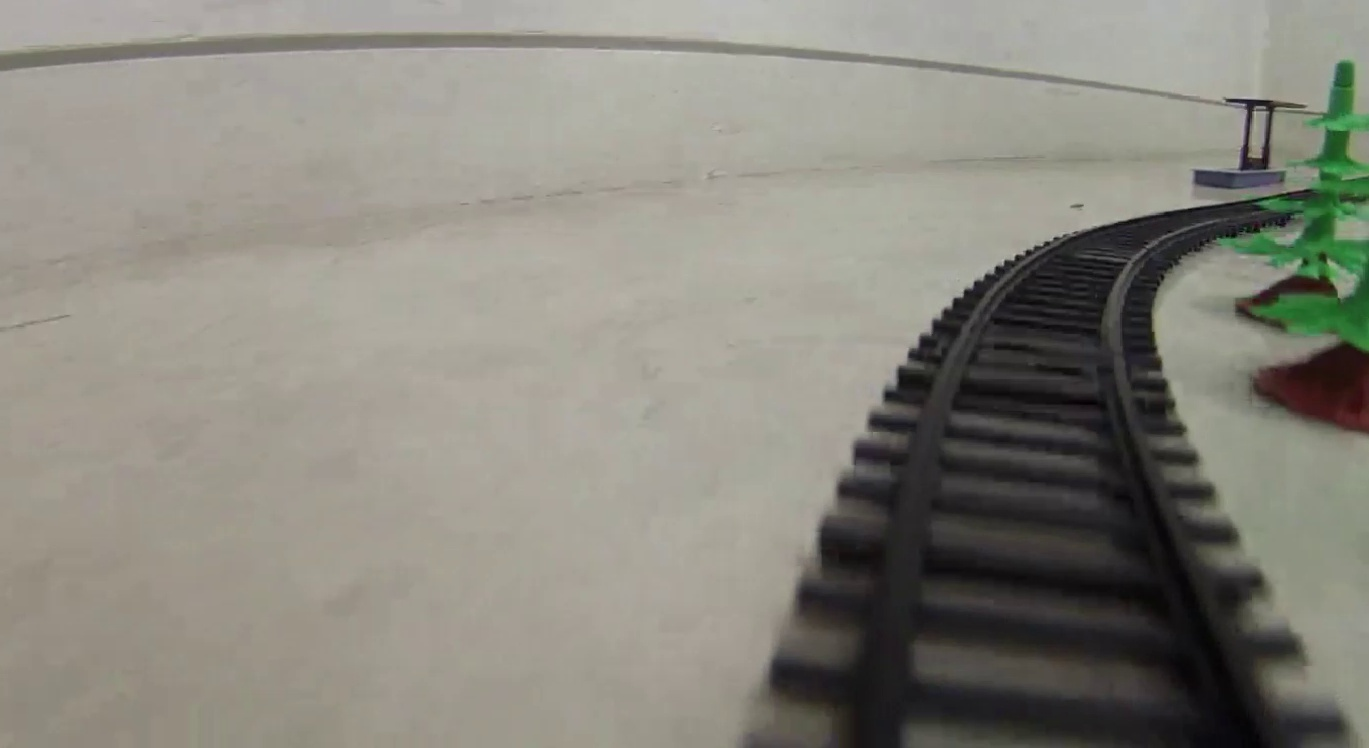tree: (1284, 56, 1356, 330)
